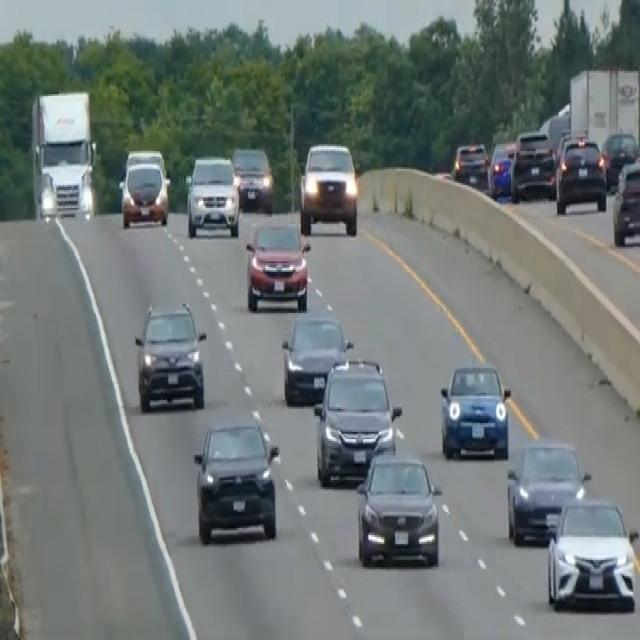car: (312, 354, 401, 485), (192, 416, 280, 544), (545, 494, 638, 612), (355, 450, 441, 567), (505, 437, 590, 546), (133, 297, 207, 412), (439, 359, 511, 459), (281, 310, 352, 406), (244, 219, 311, 313), (298, 140, 358, 237), (185, 153, 240, 238), (118, 148, 170, 228), (554, 135, 607, 213), (509, 130, 556, 201), (231, 144, 273, 213), (611, 157, 639, 247), (600, 130, 639, 188), (452, 138, 488, 186), (487, 139, 516, 197)
lorry: (29, 86, 98, 222)
